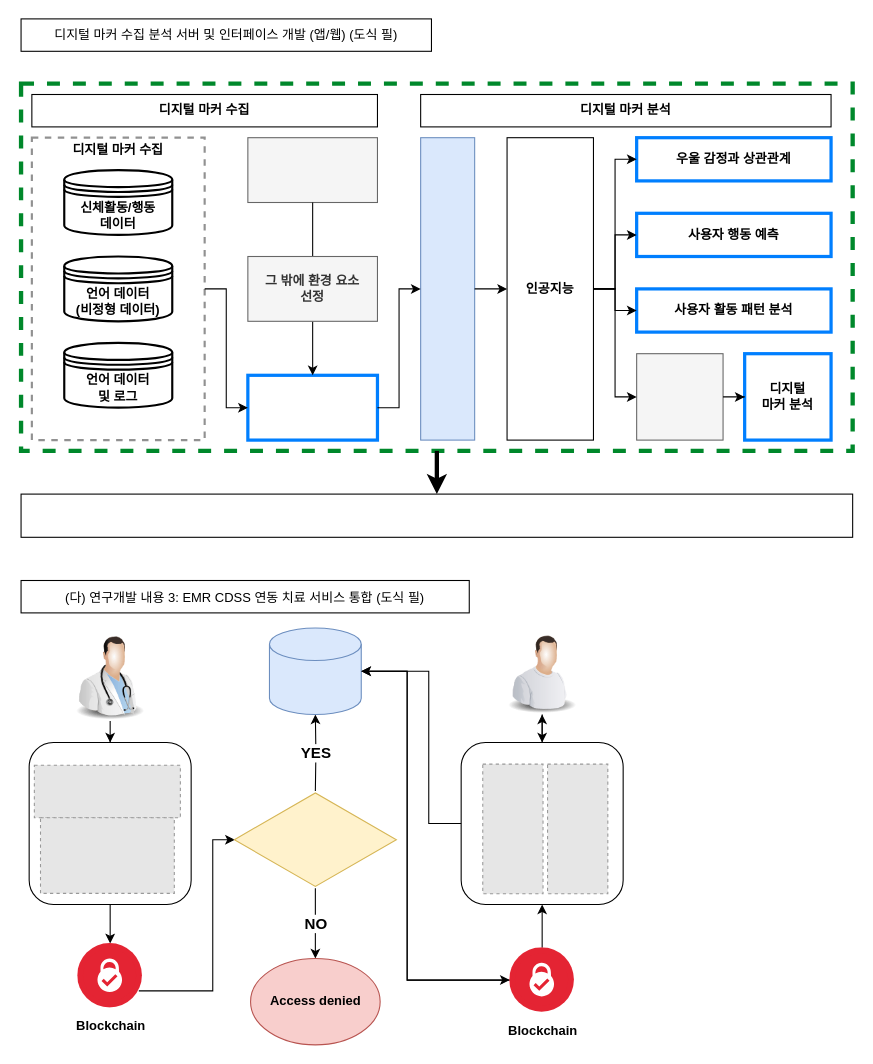
This 873x1064 diagram has some shape labels left out. Grey dashed boxes stand in for pictures. The box of each missing label's shape, as (x1, y1, x2, y2) in pixels:
Access granted by blockchain: (233, 790, 396, 888)
BA Mobile App: (460, 741, 623, 905)
CDSS Web App: (28, 741, 191, 905)
EMR: (268, 627, 361, 714)
데 이 터 전 처 리: (420, 137, 475, 440)
사용자 맞춤 알고리즘 구축: (636, 353, 723, 440)
사전에 디지털 마커 선정: (247, 137, 377, 202)
서비 및 인터페이스로 전달: (20, 493, 853, 537)
실시간 데이터 수집 및 저장: (246, 373, 379, 441)
